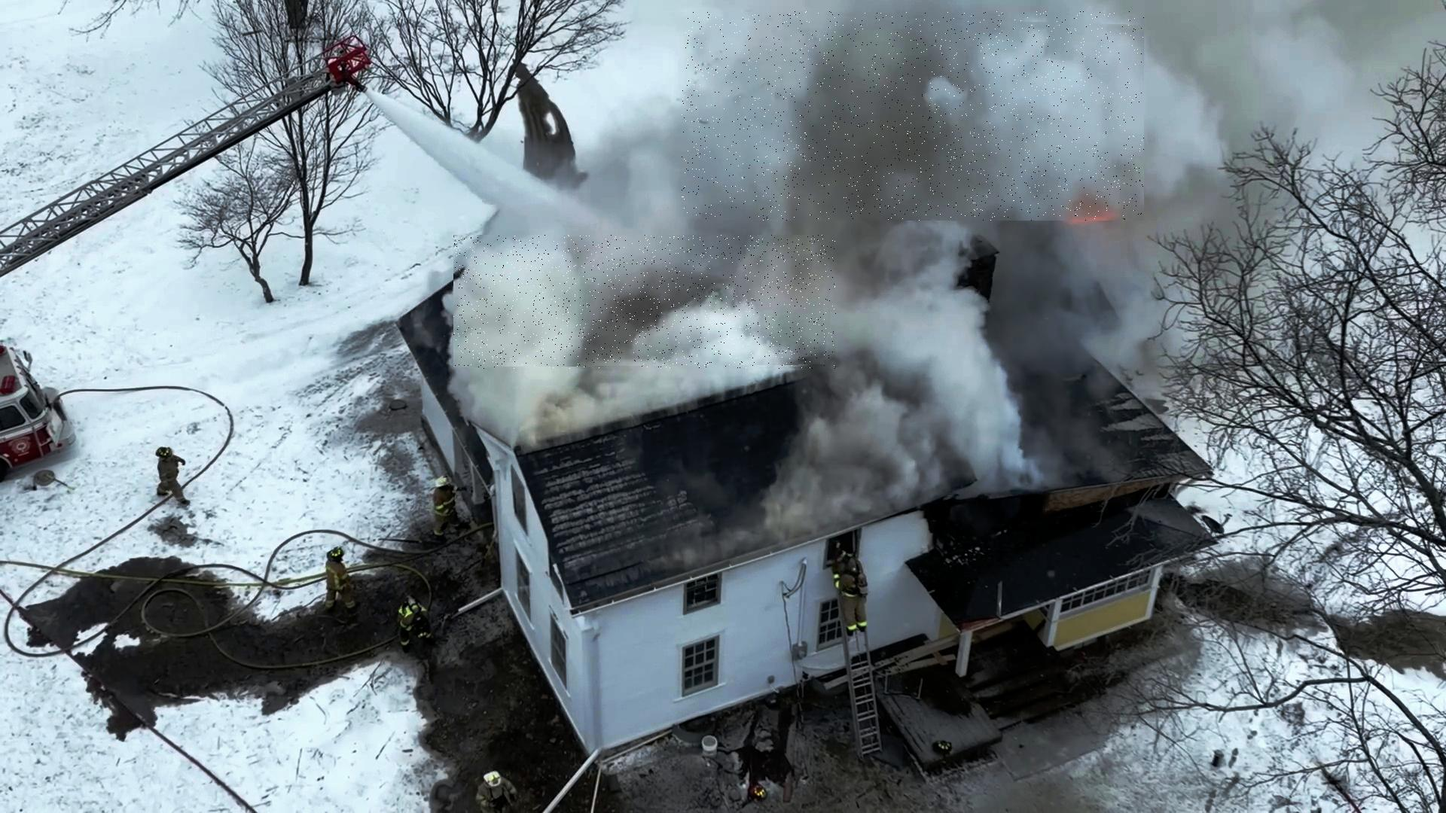smoke: (682, 11, 1144, 221), (454, 235, 837, 369)
